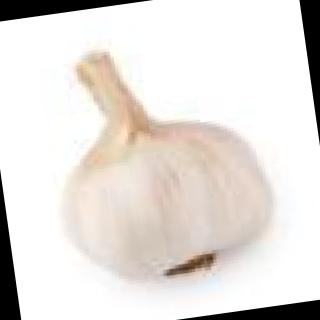Bawang Putih: (36, 24, 298, 294)
